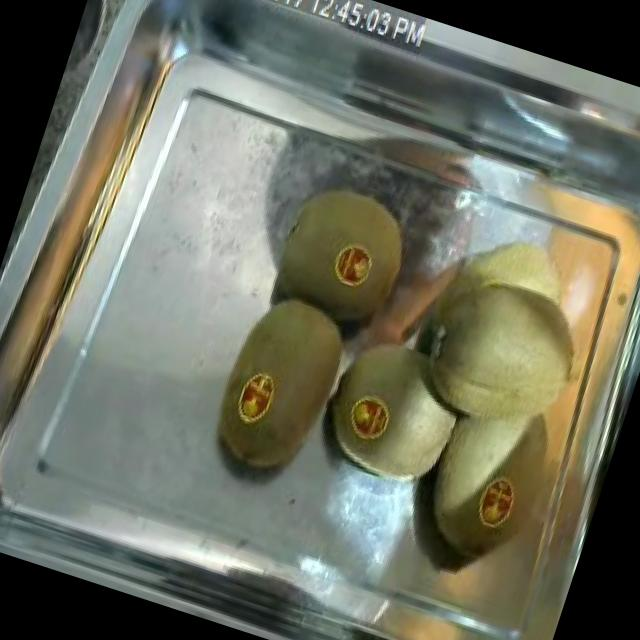Fruit: (383, 244, 609, 466), (198, 276, 376, 499), (258, 159, 436, 324), (462, 458, 532, 542)
